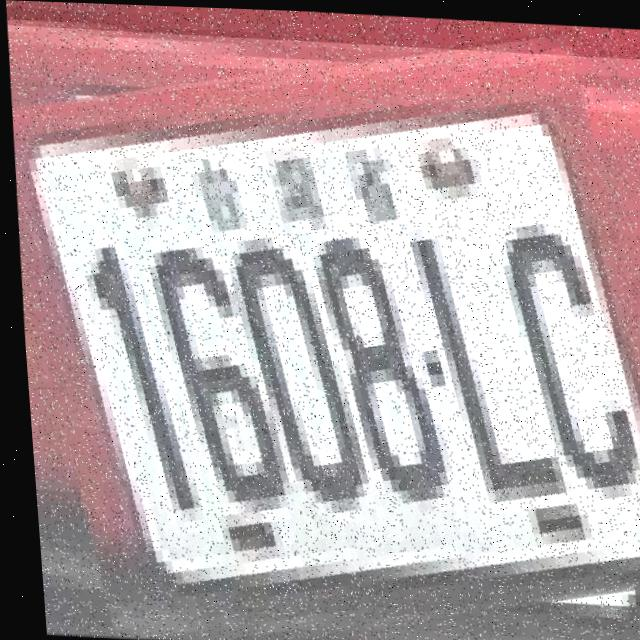LicensePlate: (1, 24, 640, 640)
